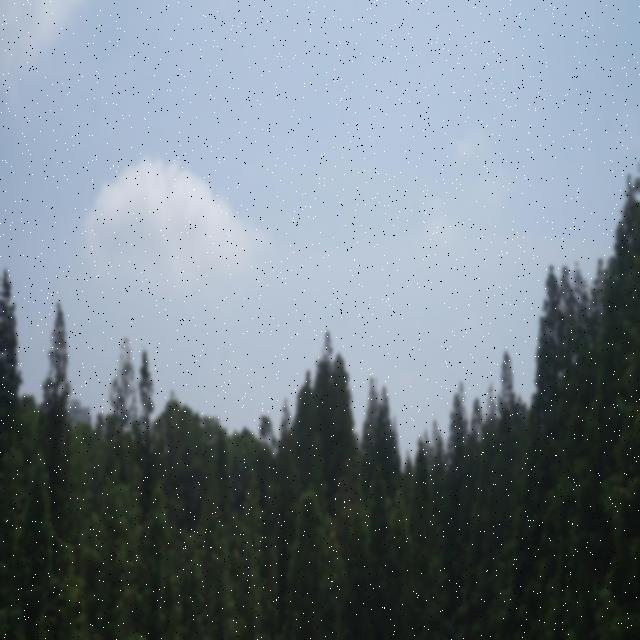UAV: (257, 435, 269, 449)
